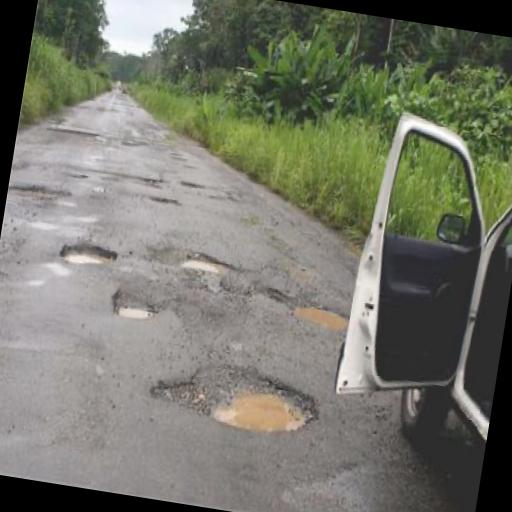pothole: (144, 347, 326, 442), (284, 291, 353, 331), (55, 235, 118, 270), (106, 287, 158, 324), (6, 176, 68, 204), (178, 248, 232, 278), (146, 189, 182, 208)
